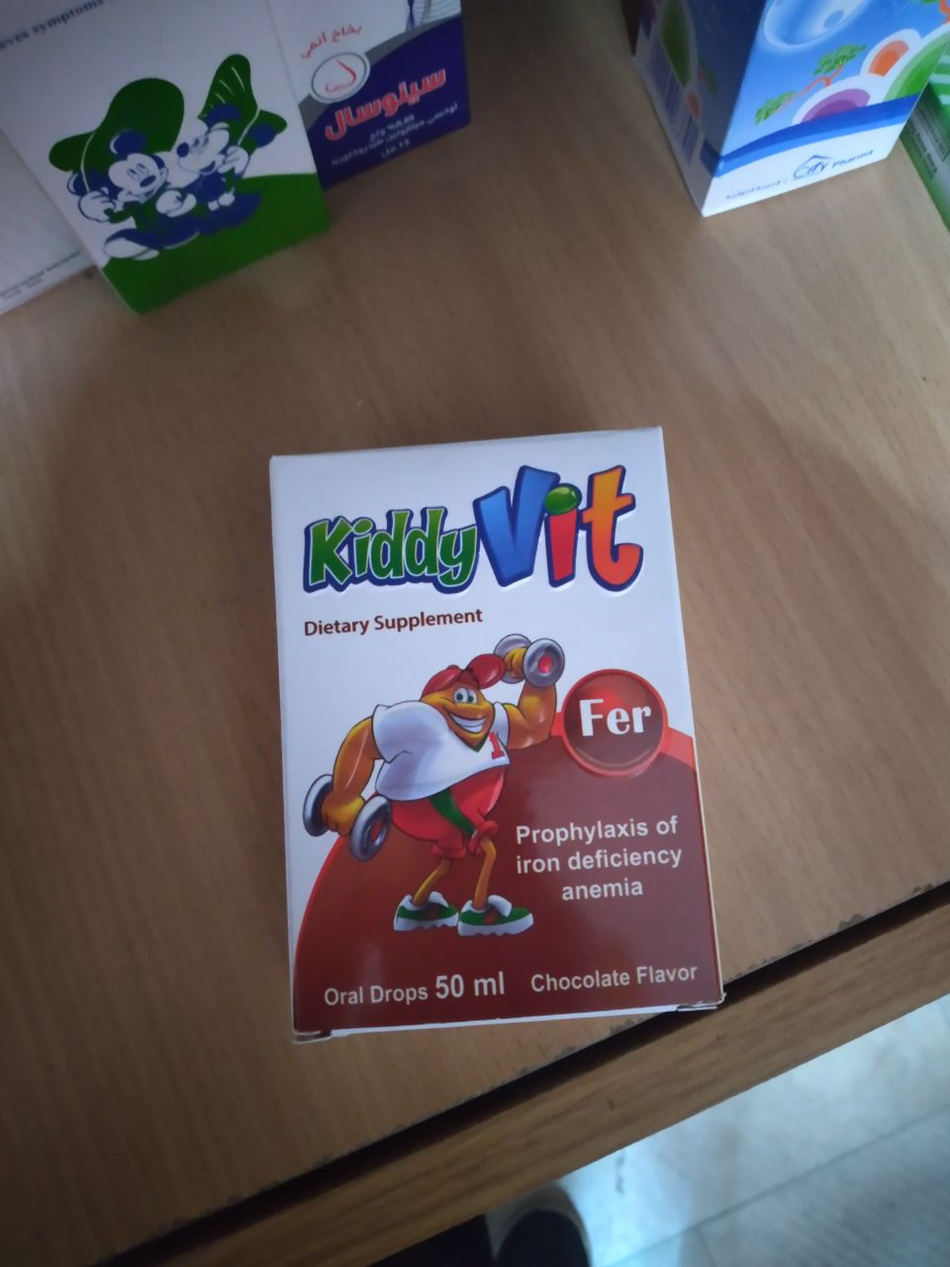Medicine: (241, 422, 742, 1082), (0, 0, 340, 337), (640, 0, 950, 238), (257, 0, 491, 168)
